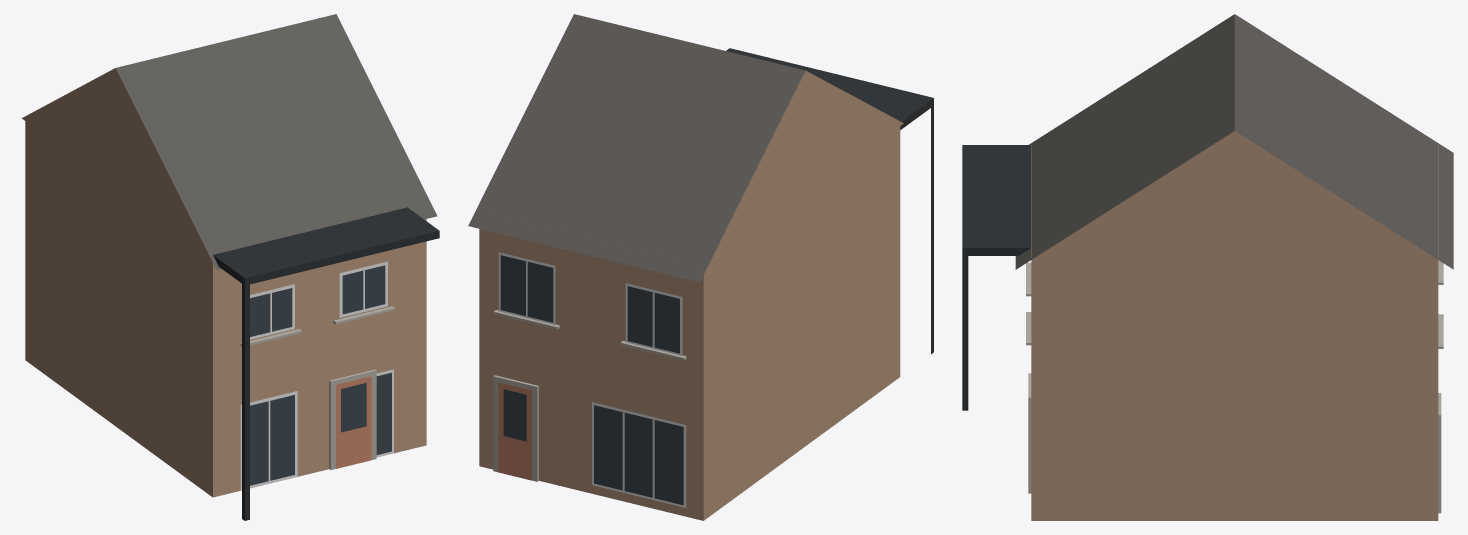
The model's file is zo-gk-post-row__orange__2__gable__long__solid.glb.
3 renders of one model, left to right at view 1: azimuth 30°, elevation 25°; view 2: azimuth 150°, elevation 25°; view 3: azimuth 270°, elevation 25°, orthographic. The views are drawn at different scales.
Visible parts, largest first — view 1: zo-gk-post-row__orange__2__gable__long__solid; view 2: zo-gk-post-row__orange__2__gable__long__solid; view 3: zo-gk-post-row__orange__2__gable__long__solid.
Part boxes in pixels (x1=…): zo-gk-post-row__orange__2__gable__long__solid: x1=22, y1=14, x2=439, y2=520; zo-gk-post-row__orange__2__gable__long__solid: x1=468, y1=14, x2=933, y2=520; zo-gk-post-row__orange__2__gable__long__solid: x1=962, y1=14, x2=1453, y2=520.
Bounding box in the file's own units: 6.19 × 9.68 × 11.
